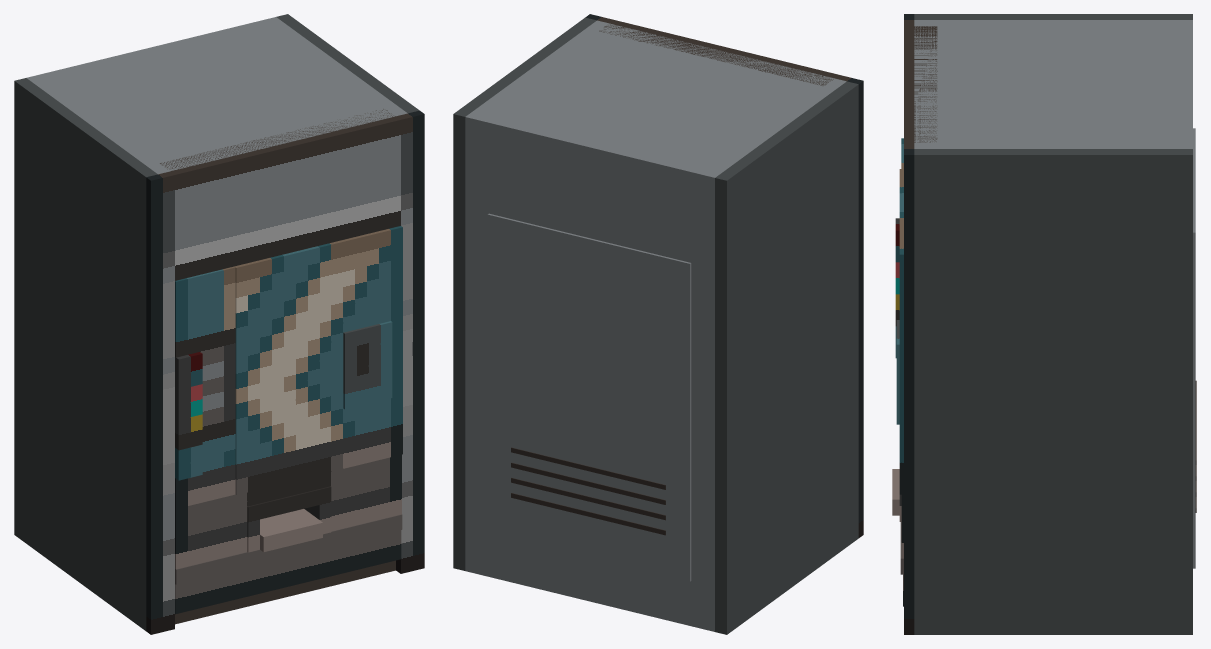
File: CMU3DKoorCigaretteVendor.glb
3 views of the same model, side by side, from view 1: azimuth 30°, elevation 25°; view 2: azimuth 150°, elevation 25°; view 3: azimuth 270°, elevation 25° (orthographic). The views are drawn at different scales.
Visible parts, largest first — view 1: left cabinet side, stripe artwork, cabinet roof, silver header, left silver face rail, teal branded door, right silver face rail, bottom plinth, coin-slot housing, lower pickup surround upper, bottom dark strip, lower pickup surround left (+12 smaller); view 2: left cabinet side, inferred rear service hatch, rear cabinet, cabinet roof, right cabinet side, silver header, left silver face rail, rear cooling slot 2, rear cooling slot 4, rear cooling slot 1, rear cooling slot 3; view 3: right cabinet side, cabinet roof, right silver face rail, silver header, rear cabinet, left cabinet side, inferred rear service hatch, teal branded door, stripe artwork.
Part boxes in pixels (x1,y1,x2,y2): left cabinet side: [14, 78, 157, 630]; stripe artwork: [235, 227, 402, 494]; cabinet roof: [34, 22, 407, 174]; silver header: [160, 109, 400, 280]; left silver face rail: [146, 171, 174, 634]; teal branded door: [175, 226, 401, 508]; right silver face rail: [396, 110, 424, 573]; bottom plinth: [175, 530, 401, 614]; coin-slot housing: [343, 321, 392, 409]; lower pickup surround upper: [175, 454, 401, 523]; bottom dark strip: [175, 514, 402, 584]; lower pickup surround left: [175, 506, 247, 569]; left cabinet side: [715, 81, 858, 634]; inferred rear service hatch: [487, 213, 691, 581]; rear cabinet: [465, 111, 722, 631]; cabinet roof: [473, 20, 846, 172]; right cabinet side: [453, 17, 596, 570]; silver header: [599, 20, 839, 85]; left silver face rail: [835, 75, 863, 537]; rear cooling slot 2: [511, 462, 665, 504]; rear cooling slot 4: [511, 493, 665, 535]; rear cooling slot 1: [511, 447, 665, 489]; rear cooling slot 3: [511, 477, 665, 520]; right cabinet side: [914, 149, 1192, 634]; cabinet roof: [914, 20, 1176, 148]; right silver face rail: [904, 142, 914, 634]; silver header: [904, 26, 937, 142]; rear cabinet: [1176, 20, 1192, 148]; left cabinet side: [914, 14, 1192, 19]; inferred rear service hatch: [1193, 128, 1195, 568]; teal branded door: [901, 138, 903, 494]; stripe artwork: [899, 169, 901, 494].
Size of the model in its own units: 0.7188 by 1.14 by 0.655.
23 materials, 18 textured.
